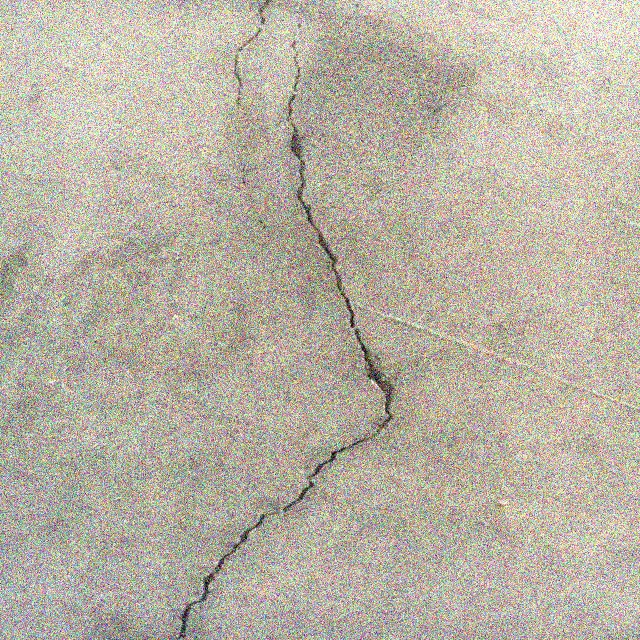SurfaceCrack: (136, 0, 419, 639)
